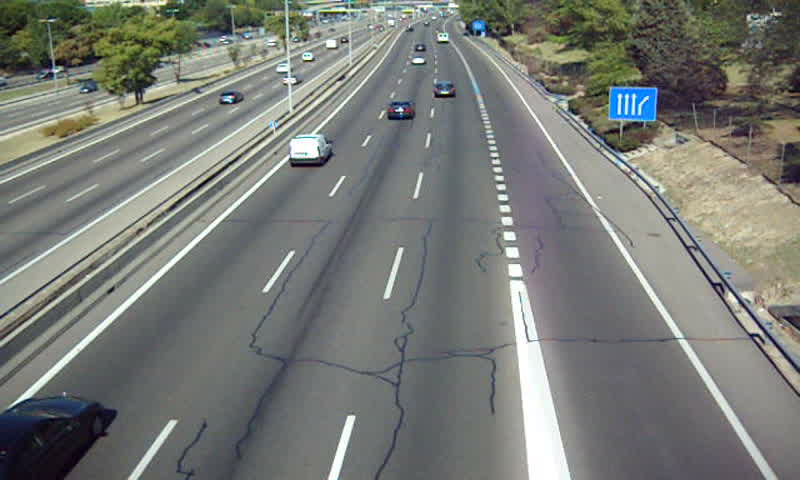car: (1, 396, 105, 480), (386, 99, 415, 120), (431, 80, 457, 100)
van: (289, 135, 333, 165)
